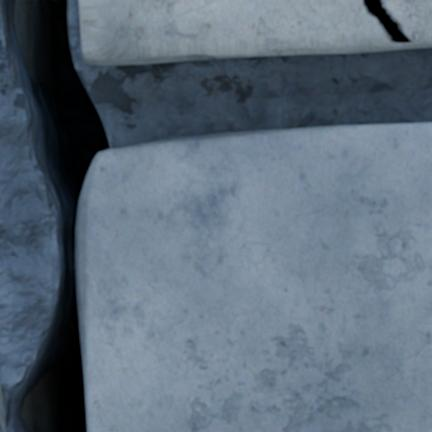brick: (79, 123, 431, 431), (79, 0, 431, 64), (0, 390, 4, 431)
crack: (0, 0, 110, 431), (362, 0, 412, 43)
